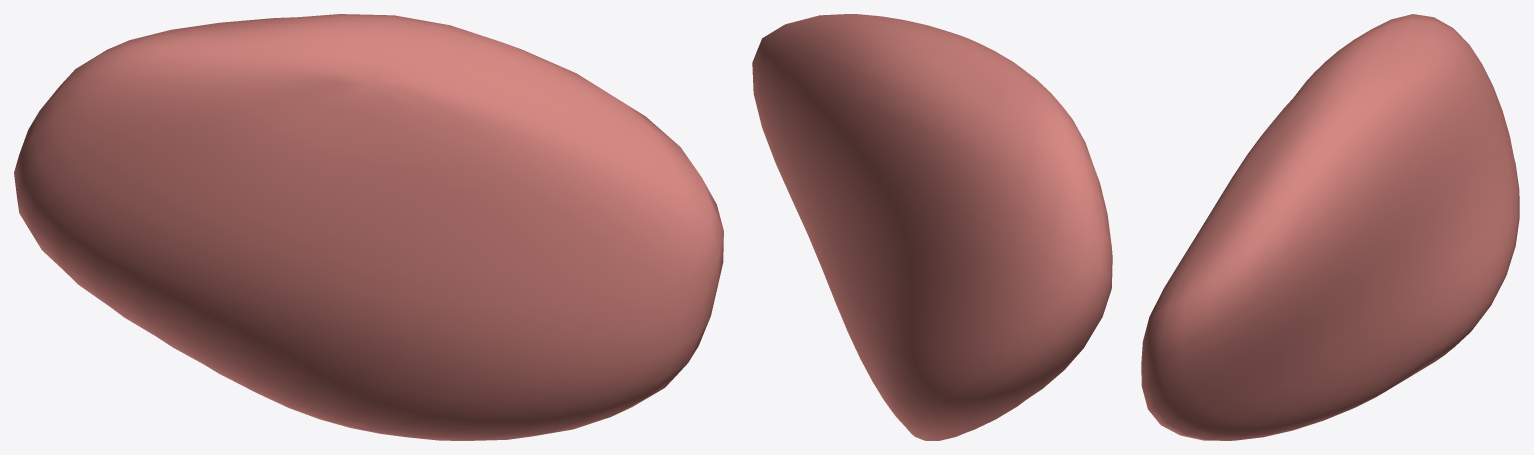
The picture shows the model from 3 angles, left to right: view 1: azimuth 30°, elevation 25°; view 2: azimuth 150°, elevation 25°; view 3: azimuth 270°, elevation 25°; orthographic projection. The views are drawn at different scales.
Parts seen in each view (by area): view 1: ZA_b1e6946644b3880c; view 2: ZA_b1e6946644b3880c; view 3: ZA_b1e6946644b3880c.
Boxes of the visible parts, x1,y1,x2,y2 form: ZA_b1e6946644b3880c: [14, 14, 723, 440]; ZA_b1e6946644b3880c: [752, 14, 1112, 440]; ZA_b1e6946644b3880c: [1141, 14, 1519, 440].
Bounding box in the file's own units: 0.0108 × 0.00795 × 0.00826.
